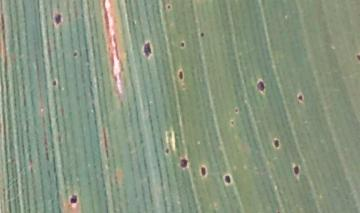tarspot: (142, 39, 152, 57), (256, 79, 265, 92), (271, 138, 281, 149), (53, 13, 62, 25), (69, 192, 78, 204), (179, 157, 188, 168), (292, 163, 300, 175), (177, 68, 184, 81), (223, 173, 231, 184), (200, 165, 207, 177), (71, 49, 79, 58), (50, 79, 58, 86), (179, 40, 186, 48), (164, 146, 170, 155), (297, 93, 303, 102), (233, 106, 239, 114), (356, 52, 360, 63), (166, 3, 172, 10), (199, 31, 205, 38), (229, 119, 235, 125)
